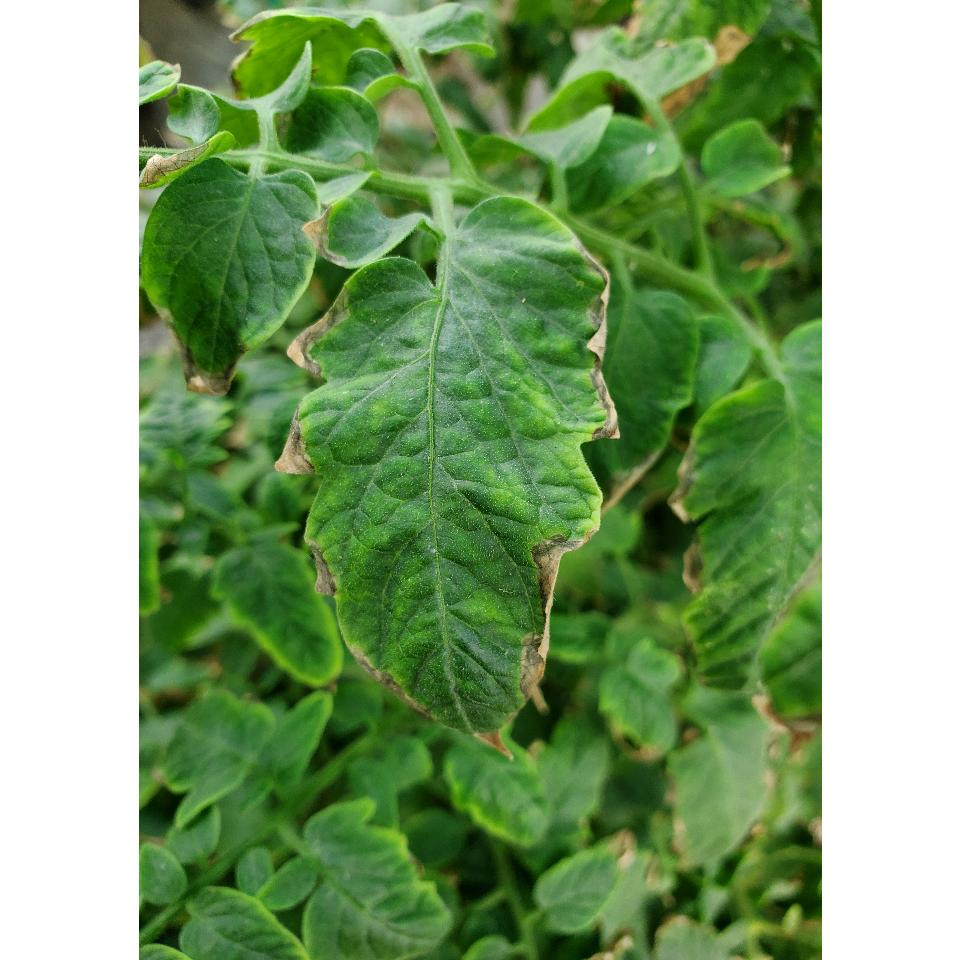tomato_bacterial_blight: (270, 197, 634, 770)
